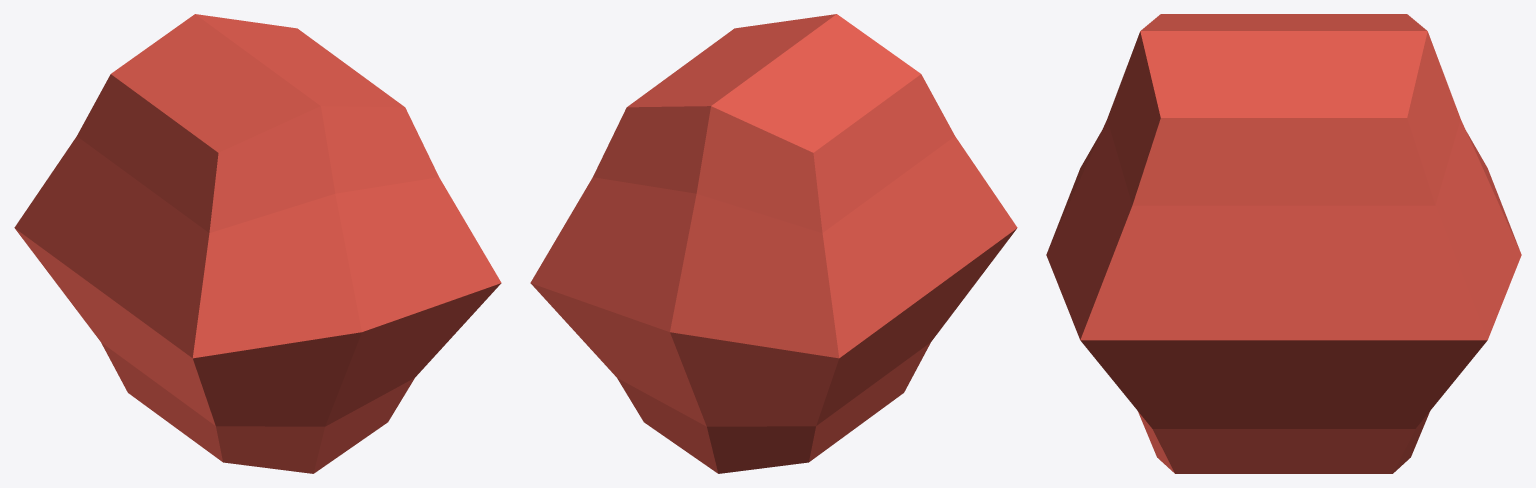
File: gem2.glb
3 views of the same model, side by side, from view 1: azimuth 30°, elevation 25°; view 2: azimuth 150°, elevation 25°; view 3: azimuth 270°, elevation 25° (orthographic). The views are drawn at different scales.
Visible parts, largest first — view 1: Cube; view 2: Cube; view 3: Cube.
Boxes of the visible parts, x1=… form: Cube: x1=14, y1=14, x2=501, y2=473; Cube: x1=530, y1=14, x2=1017, y2=473; Cube: x1=1046, y1=14, x2=1521, y2=473.
Size of the model in its own units: 33.87 by 39.1 by 39.52.
